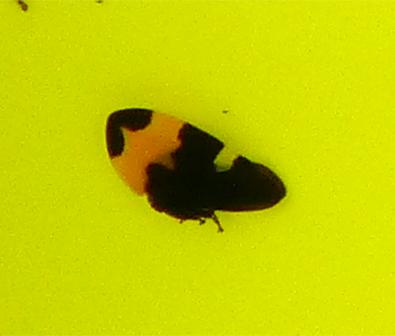Hemiptera: (100, 100, 295, 236)
